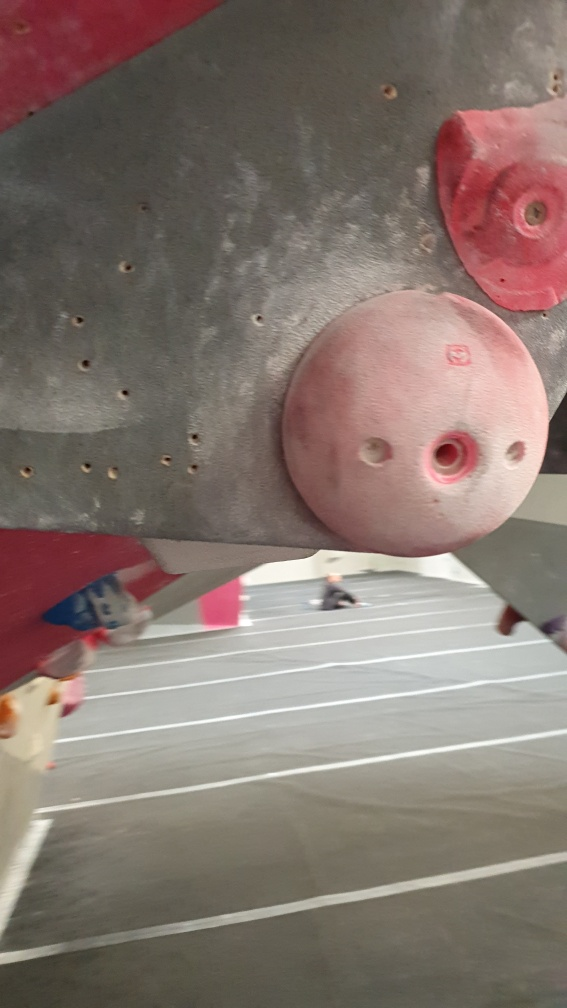Jug: (40, 573, 150, 639)
Sloper: (286, 288, 546, 565)
